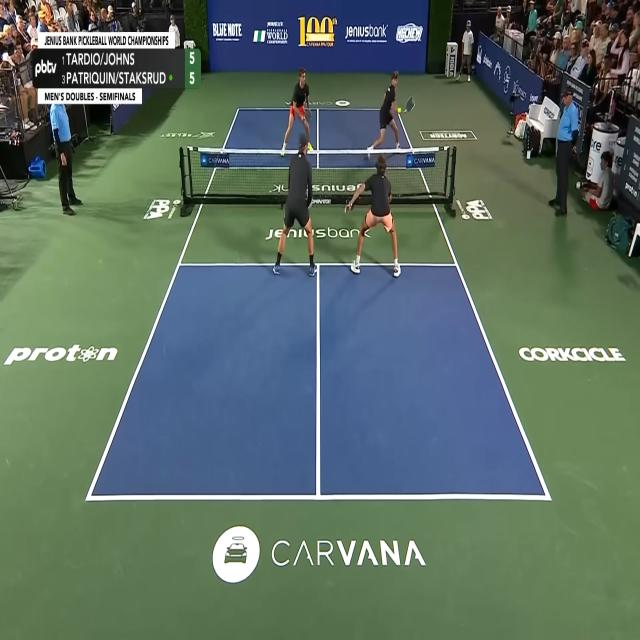ball: (398, 107, 402, 114)
